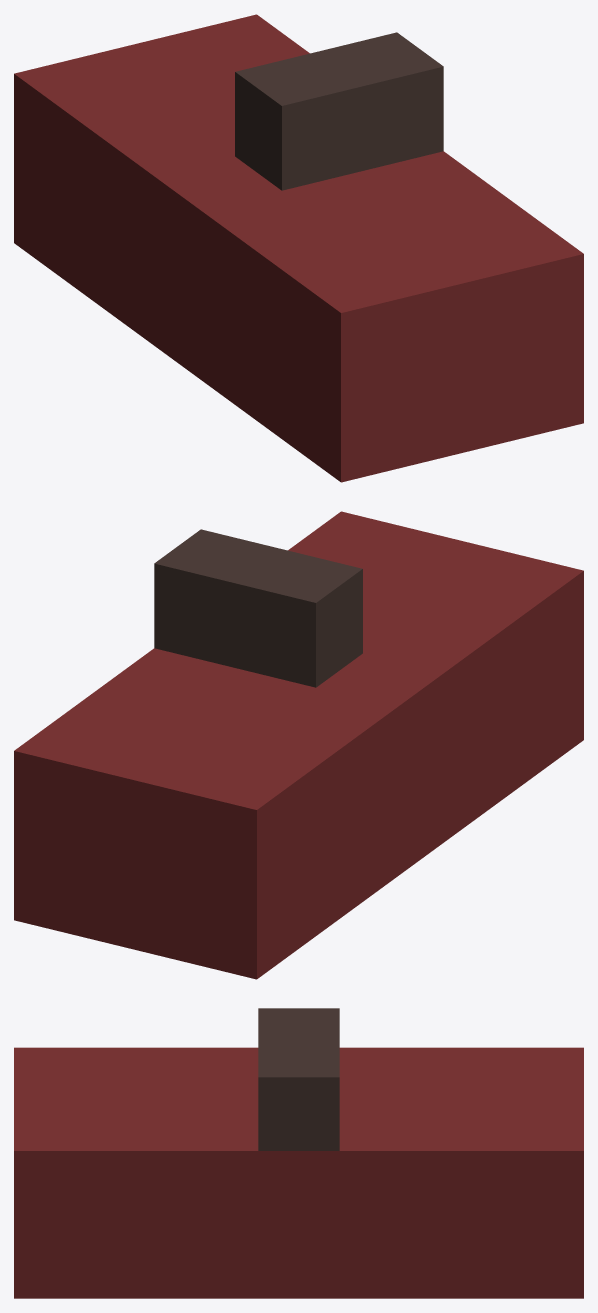
The model's file is cloth_masterwork_boot_foot_L_lod1.glb.
3 renders of one model, top to bottom at view 1: azimuth 30°, elevation 25°; view 2: azimuth 150°, elevation 25°; view 3: azimuth 270°, elevation 25°, orthographic. The views are drawn at different scales.
Visible parts, largest first — view 1: cloth_masterwork_boot_foot_L_lod1; view 2: cloth_masterwork_boot_foot_L_lod1; view 3: cloth_masterwork_boot_foot_L_lod1.
Boxes of the visible parts, box(x1,y1,x2,y2) form: cloth_masterwork_boot_foot_L_lod1: box(14, 14, 583, 482); cloth_masterwork_boot_foot_L_lod1: box(14, 511, 583, 979); cloth_masterwork_boot_foot_L_lod1: box(14, 1008, 583, 1298).
Bounding box in the file's own units: 0.144 × 0.144 × 0.336.
